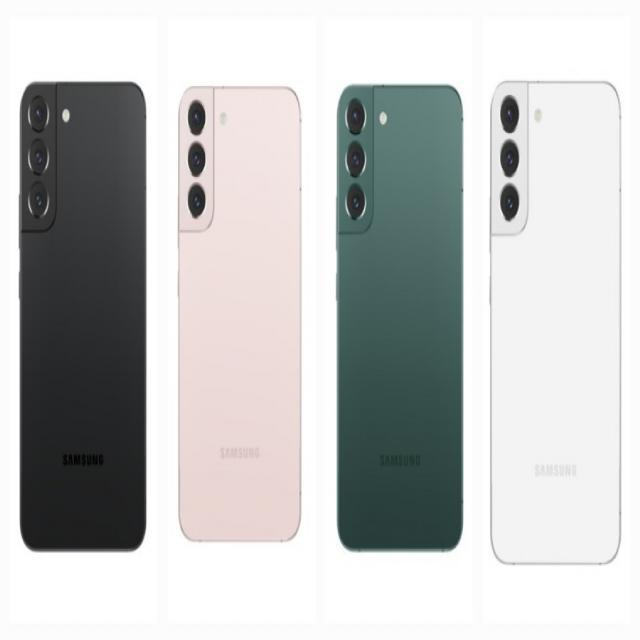phone: (489, 70, 621, 570), (335, 72, 467, 560), (20, 72, 149, 560), (178, 74, 302, 546)
